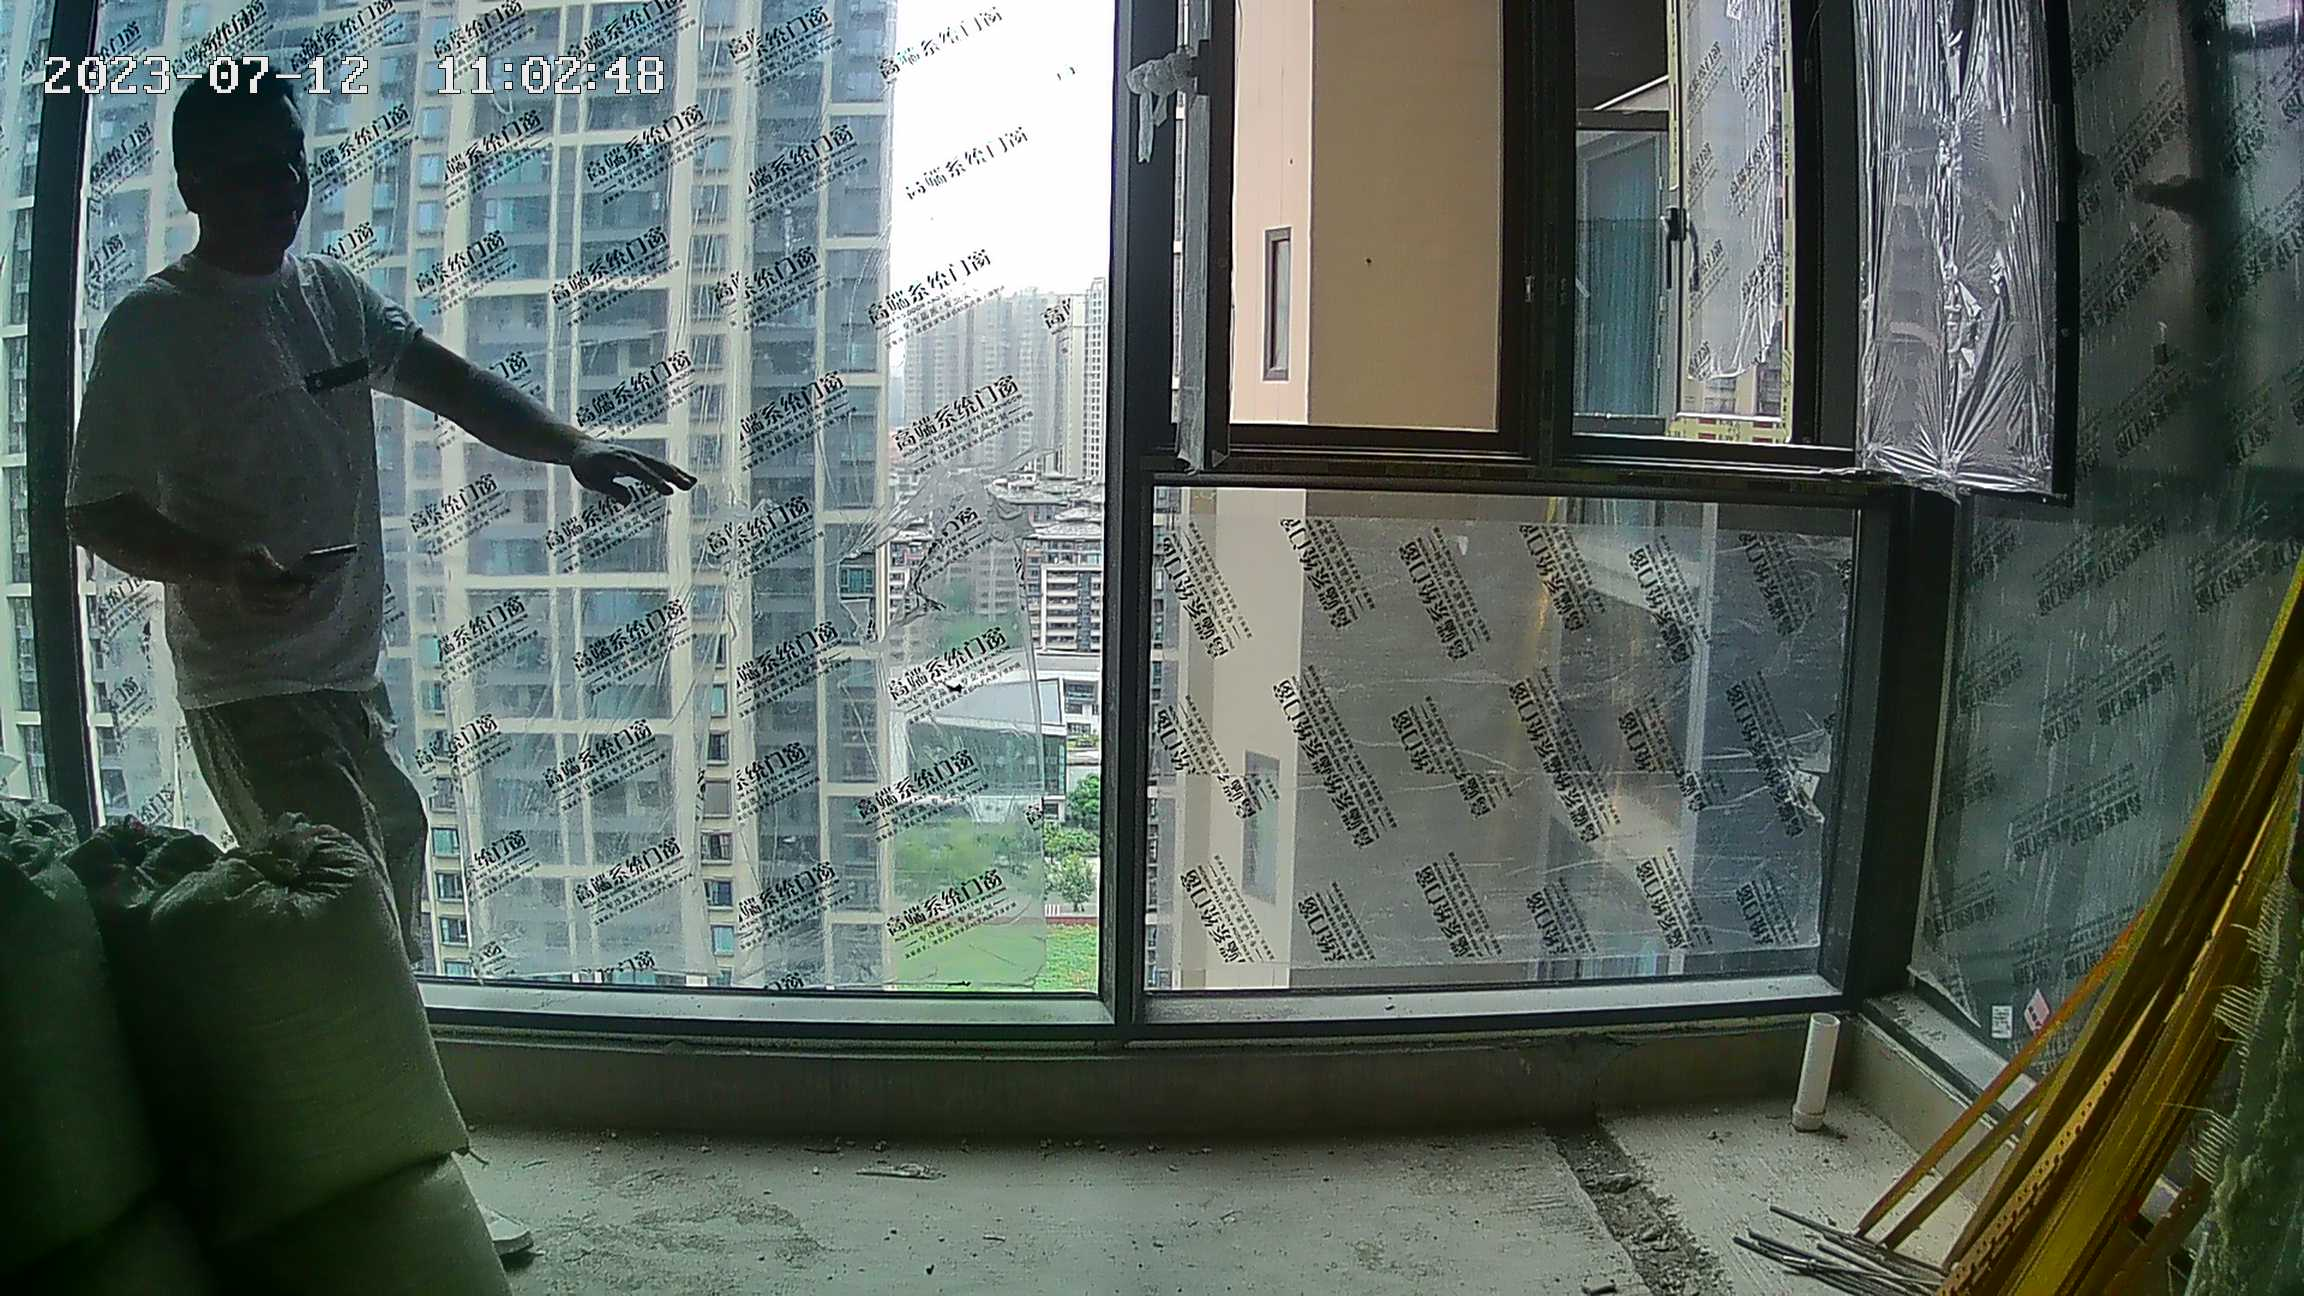people: (64, 54, 686, 847)
window: (1, 3, 1869, 1001), (1930, 1, 2295, 1223)
